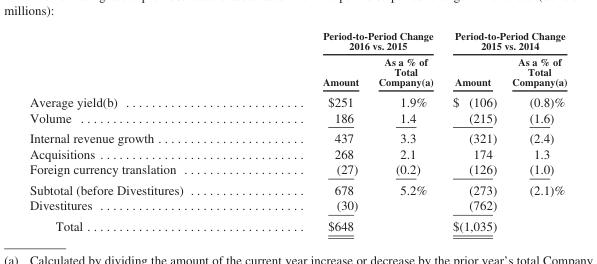table: (28, 29, 566, 232)
table column: (28, 29, 252, 232), (252, 29, 367, 232), (367, 29, 442, 232), (503, 29, 566, 232), (442, 29, 503, 232)
table column header: (28, 29, 566, 91)
table row: (28, 53, 566, 91), (28, 29, 566, 53), (28, 91, 566, 109), (28, 109, 566, 127), (28, 127, 566, 145), (28, 161, 566, 179), (28, 179, 566, 197), (28, 197, 566, 215), (28, 215, 566, 232), (28, 145, 566, 161)
table spanning cell: (252, 29, 442, 53), (442, 29, 566, 53)
